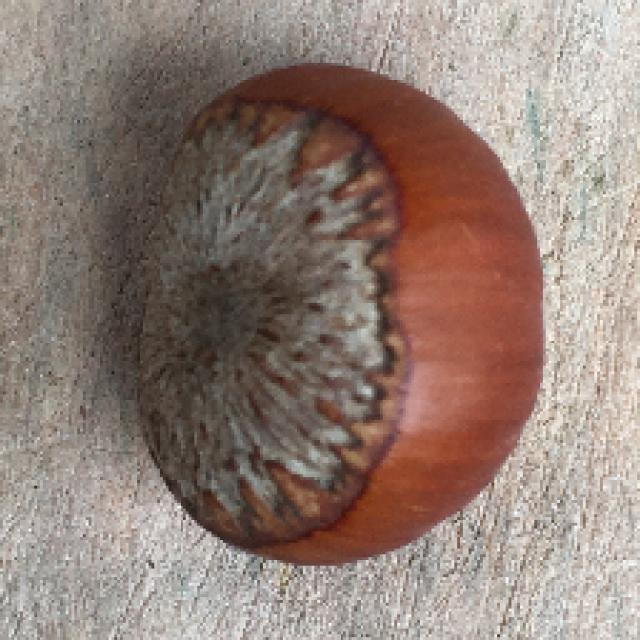qualityHazelnut: (138, 53, 551, 571)
